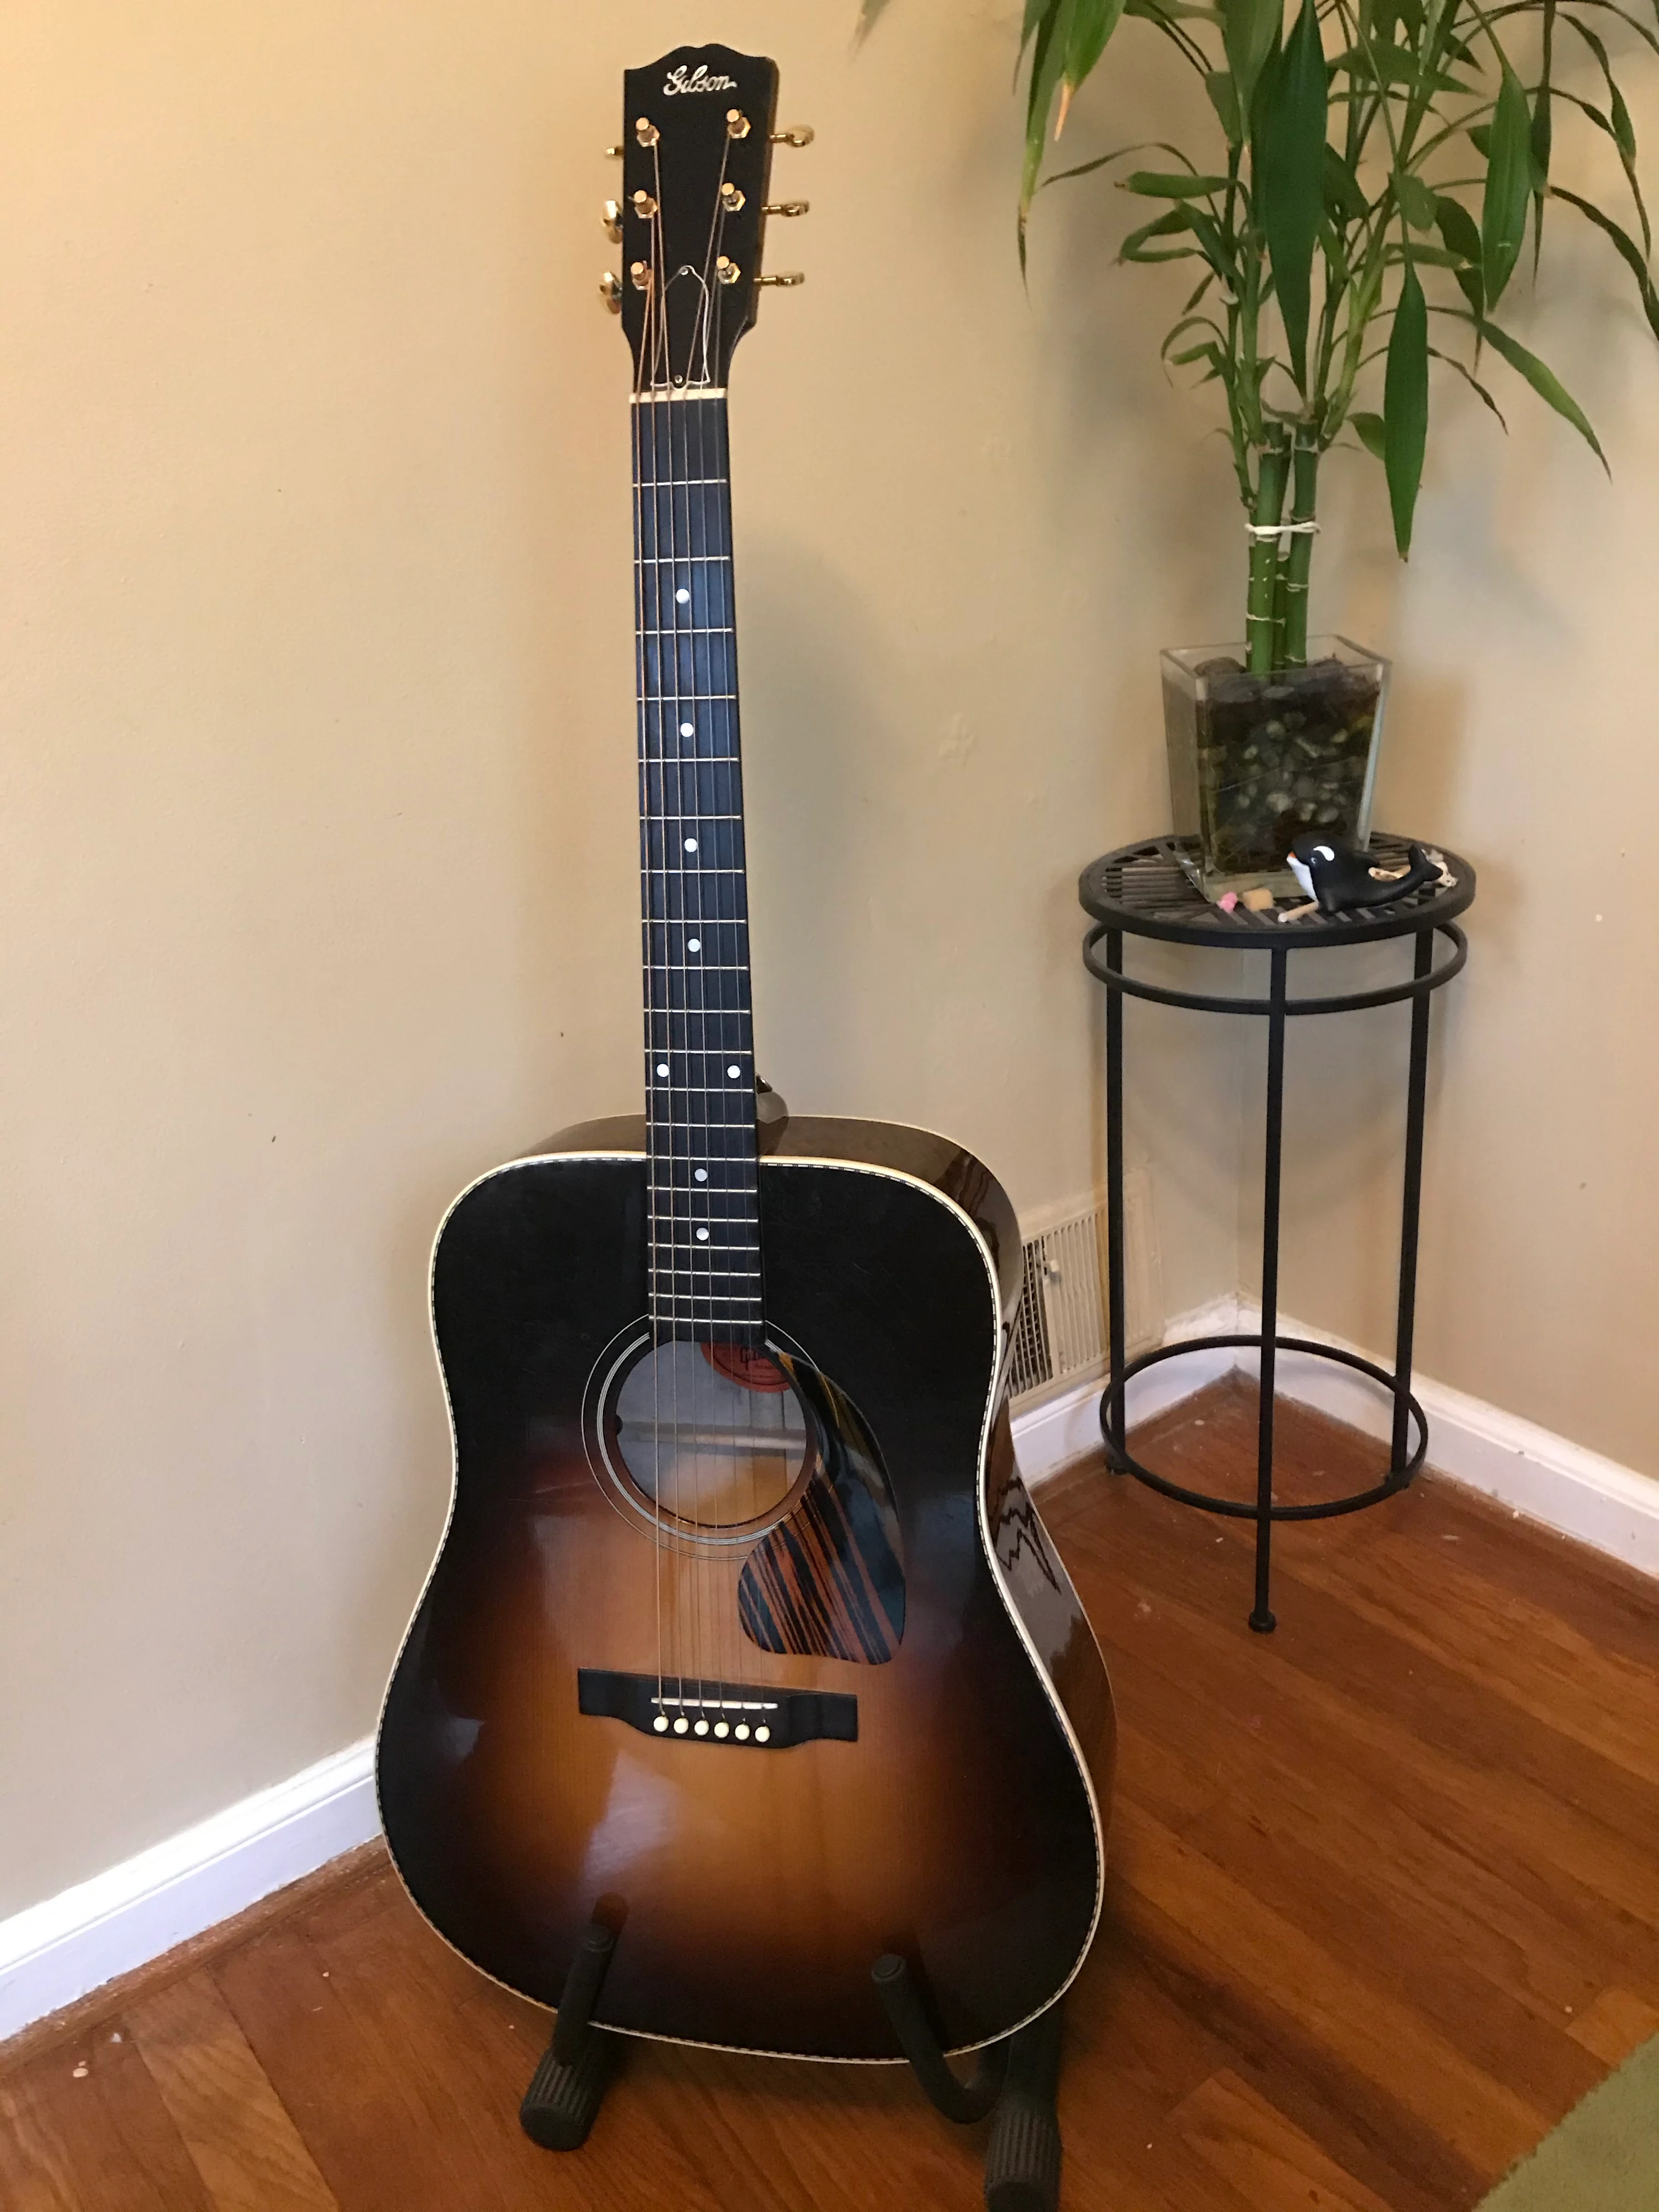guitar: (369, 19, 1115, 2170), (368, 1096, 1115, 2203)
